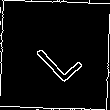L_NW: (27, 26, 83, 84)
